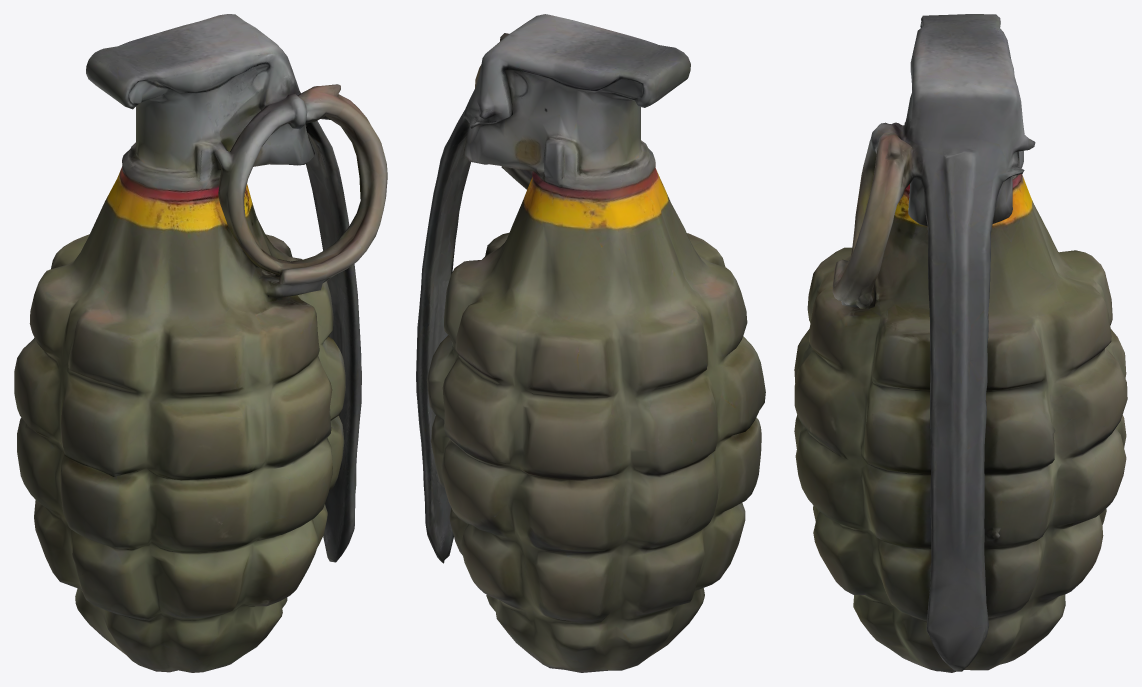
The model's file is Pineapple Grenade.glb.
The picture shows the model from 3 angles, left to right: view 1: azimuth 30°, elevation 25°; view 2: azimuth 150°, elevation 25°; view 3: azimuth 270°, elevation 25°; orthographic projection.
Size of the model in its own units: 1.07 by 2 by 1.
Materials: 1 (1 with a texture image).
